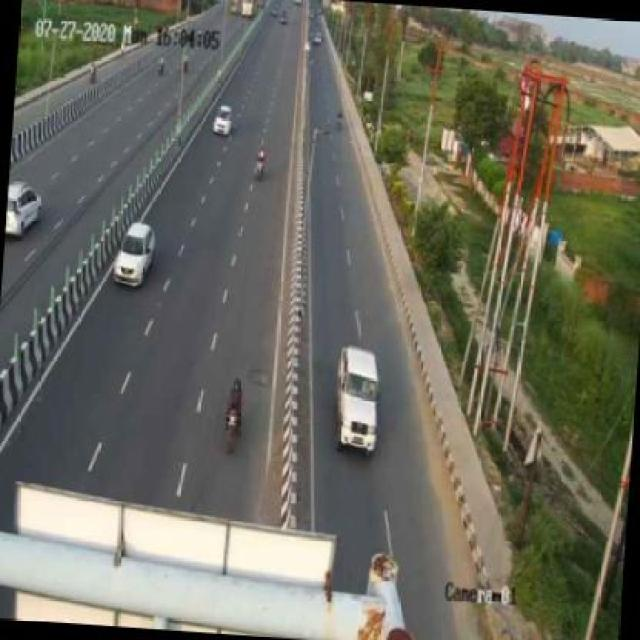car: (328, 340, 392, 458), (108, 215, 170, 294), (6, 182, 45, 242), (212, 108, 235, 138)
